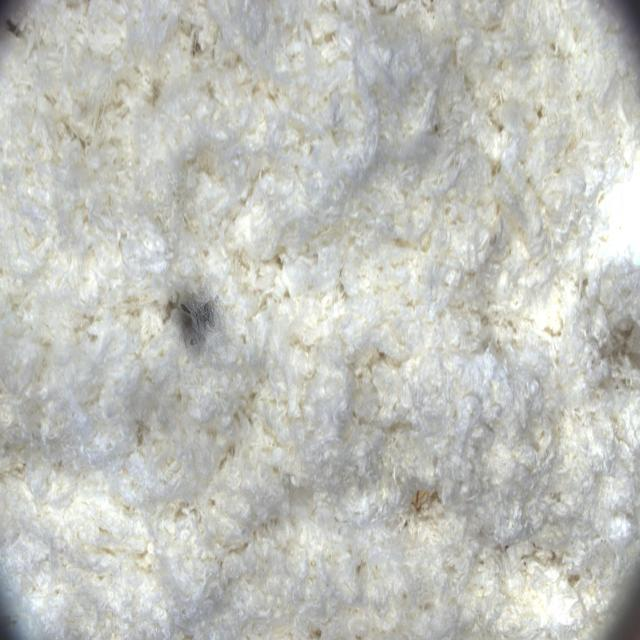dust: (126, 250, 248, 372)
